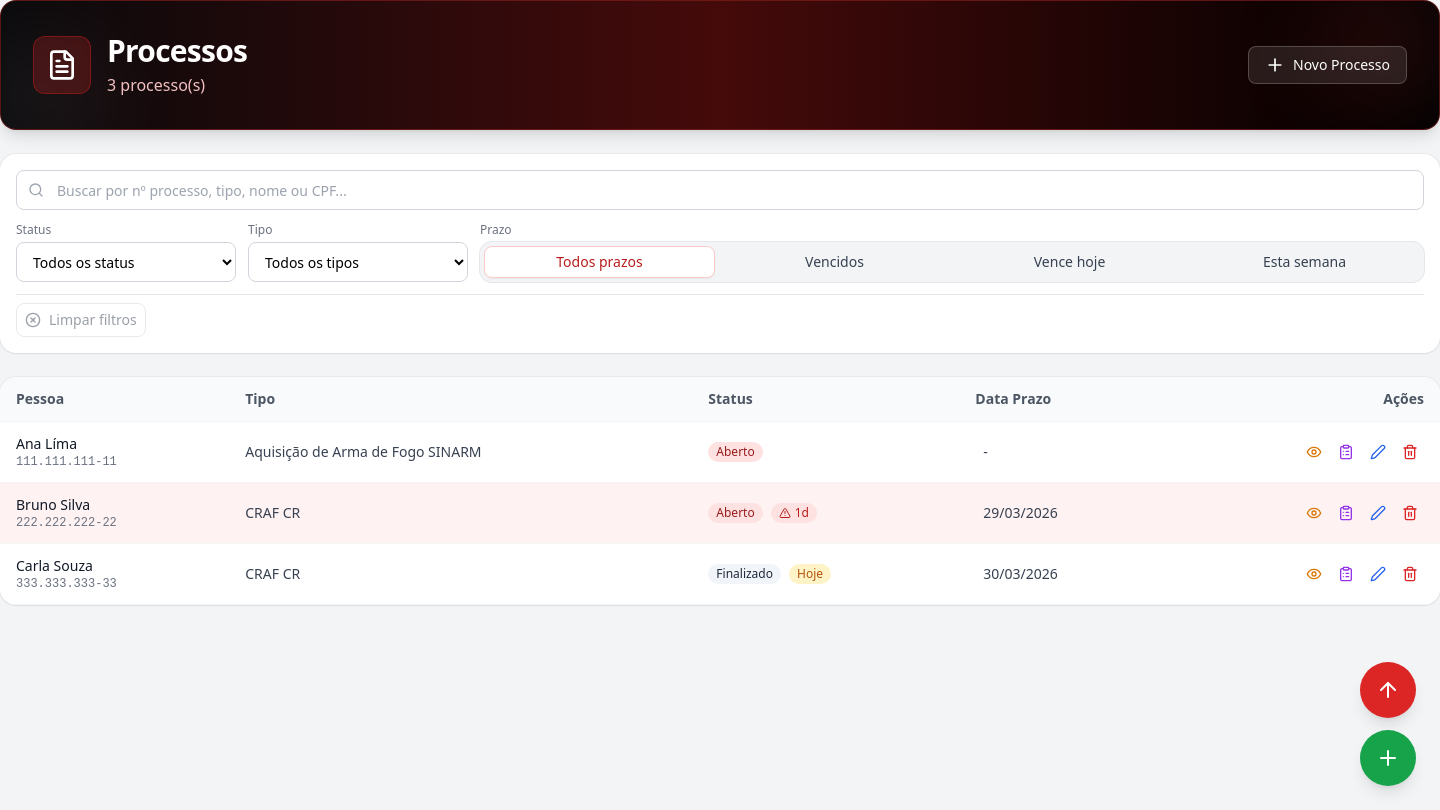
Test case: Processos filtros › filtra por nome ignorando acentos
Step 1. Type "ana lima" into the field with placeholder "Buscar por nº processo, tipo, nome ou CPF..." → (720, 190), box [16,170,1424,210]
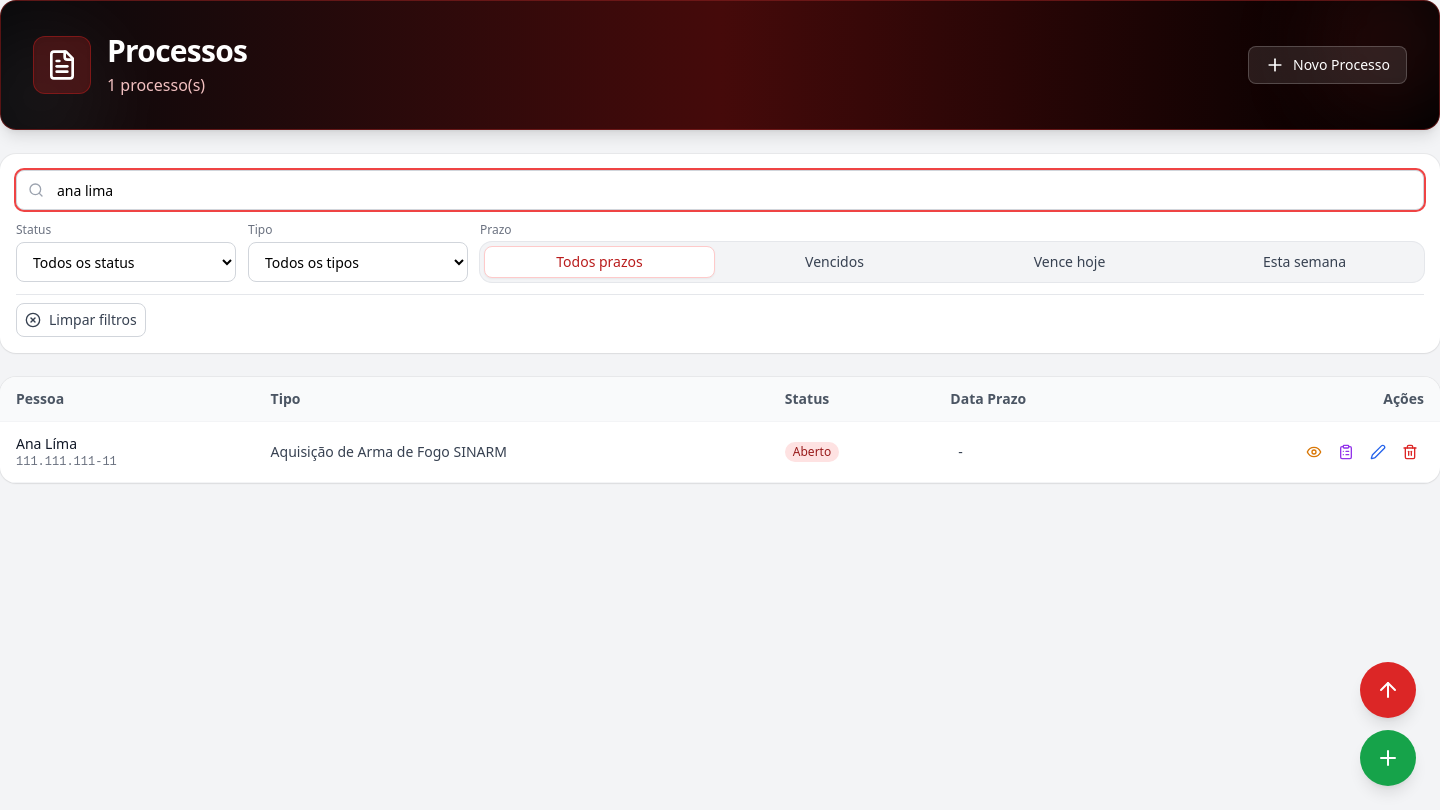
Now the text "1 processo(s)" is shown, box [107,74,205,96]
